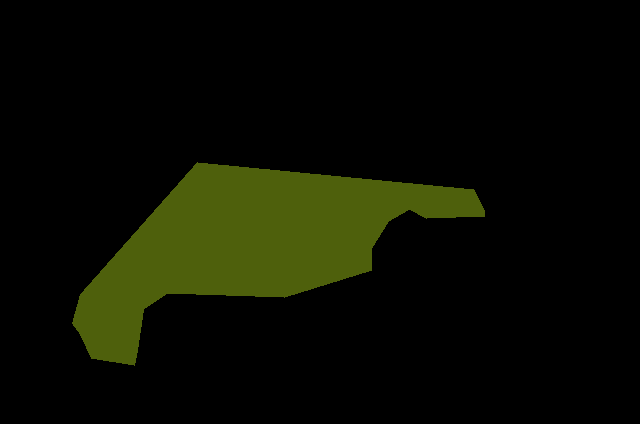Train: (72, 162, 484, 366)
